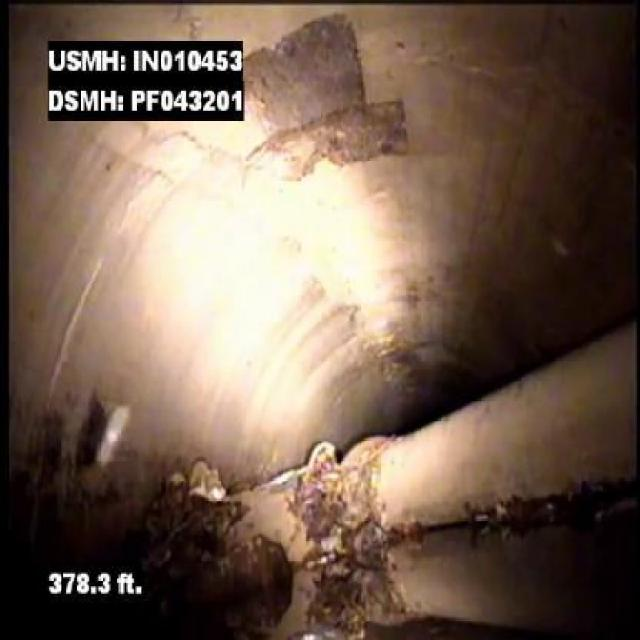Utility intrusion: (394, 312, 638, 537)
